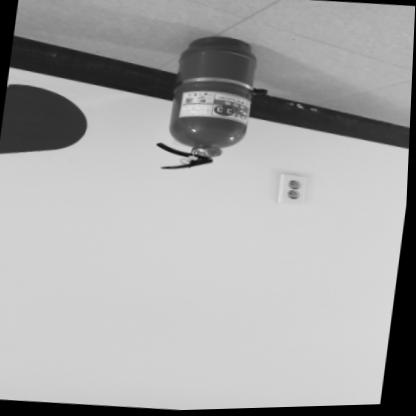FE: (154, 33, 258, 176)
